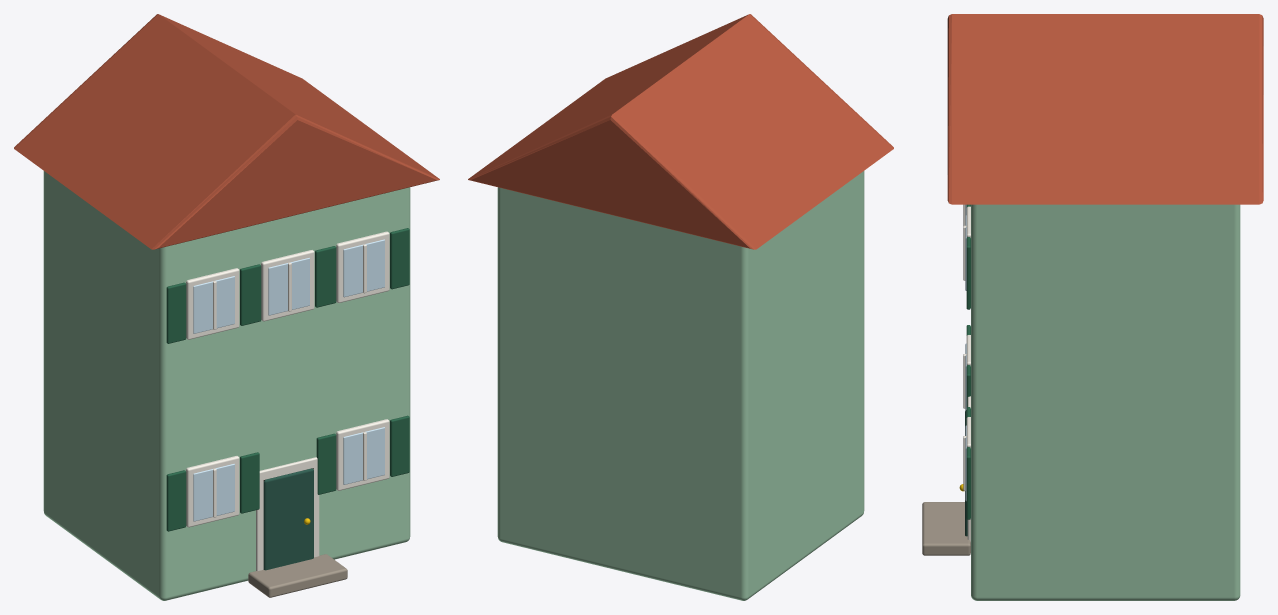
Rendered from maison_menthe.glb.
The picture shows the model from 3 angles, left to right: view 1: azimuth 30°, elevation 25°; view 2: azimuth 150°, elevation 25°; view 3: azimuth 270°, elevation 25°; orthographic projection. The views are drawn at different scales.
Parts seen in each view (by area): view 1: house; view 2: house; view 3: house.
Part boxes in pixels (x1,y1,x2,y2): house: [14, 14, 439, 600]; house: [468, 14, 893, 600]; house: [922, 14, 1263, 600].
Bounding box in the file's own units: 6.92 × 10.66 × 6.33.
